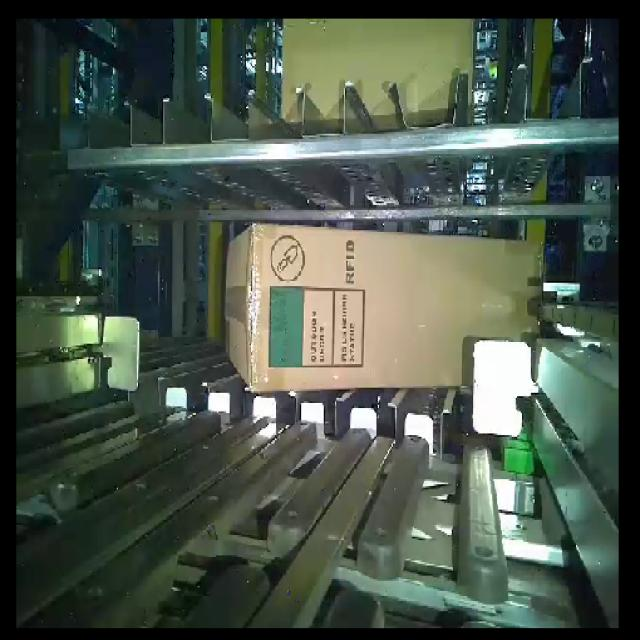box: (253, 222, 542, 394)
